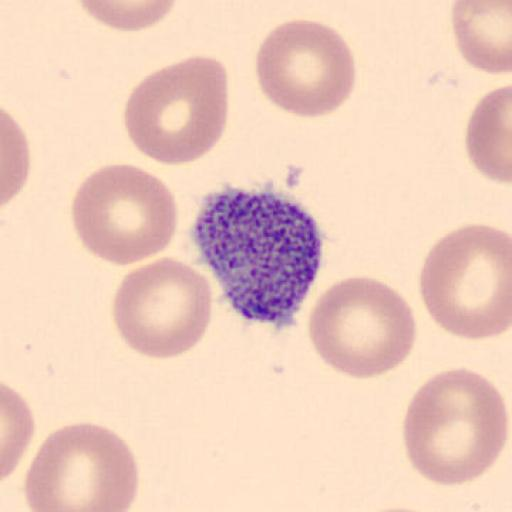Platelet: (193, 180, 325, 329)
RBC: (401, 365, 509, 487), (122, 54, 230, 166), (306, 273, 418, 380), (70, 162, 180, 268), (418, 221, 512, 342), (111, 254, 215, 360), (23, 420, 141, 512), (254, 18, 358, 119), (465, 82, 512, 188), (451, 0, 512, 76), (2, 380, 36, 483), (76, 0, 180, 32), (2, 107, 32, 210), (357, 503, 438, 512)
